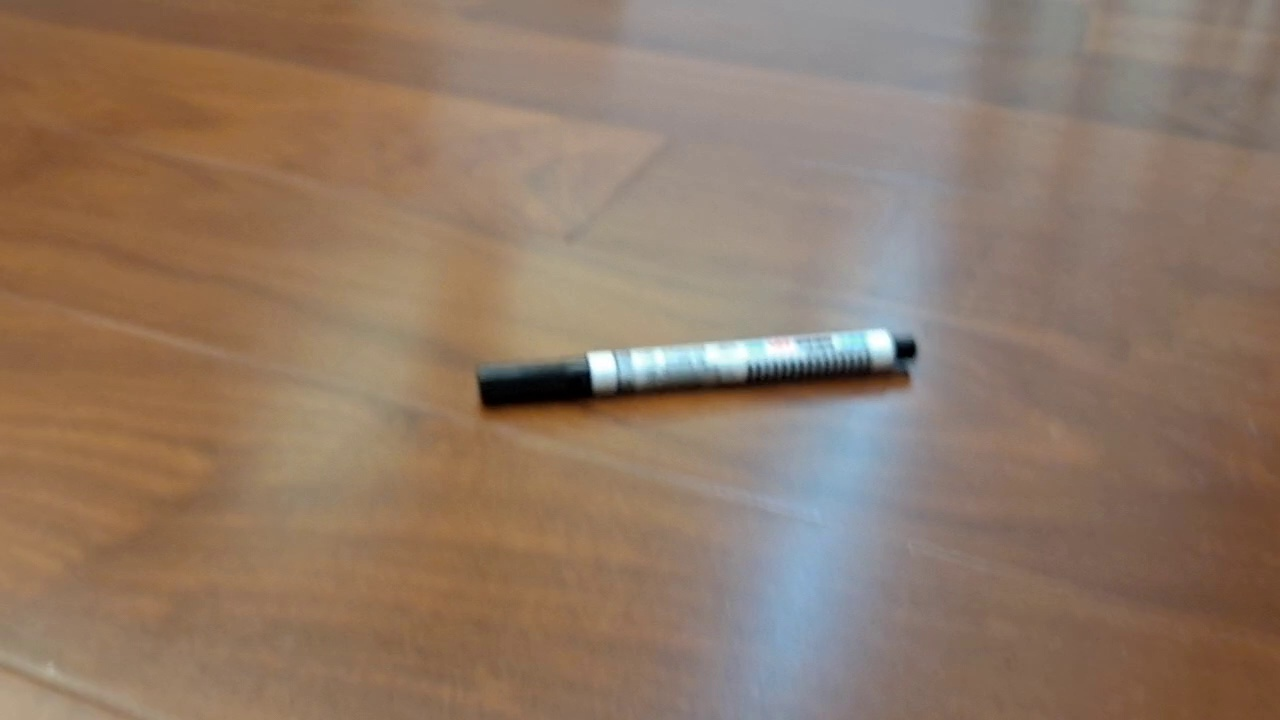pen: (477, 328, 917, 407)
